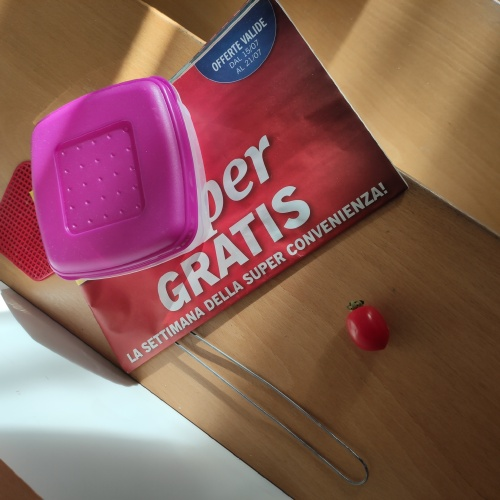pomodoro: (338, 295, 399, 358)
